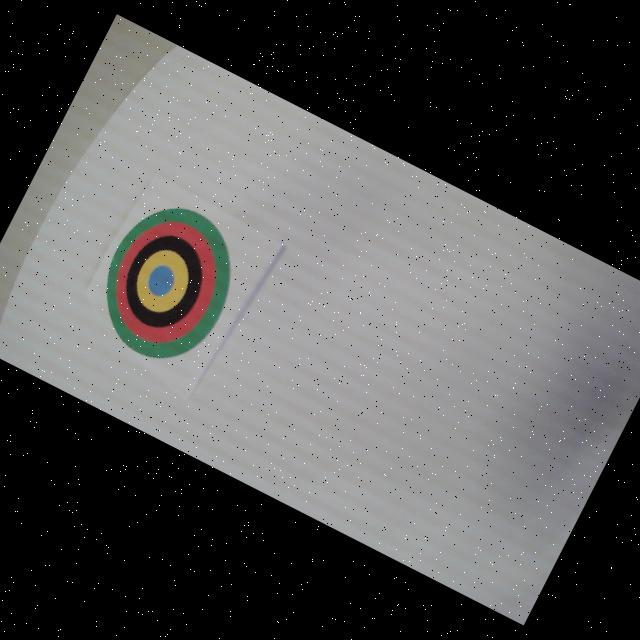COGNITIVE: (80, 188, 256, 378)
